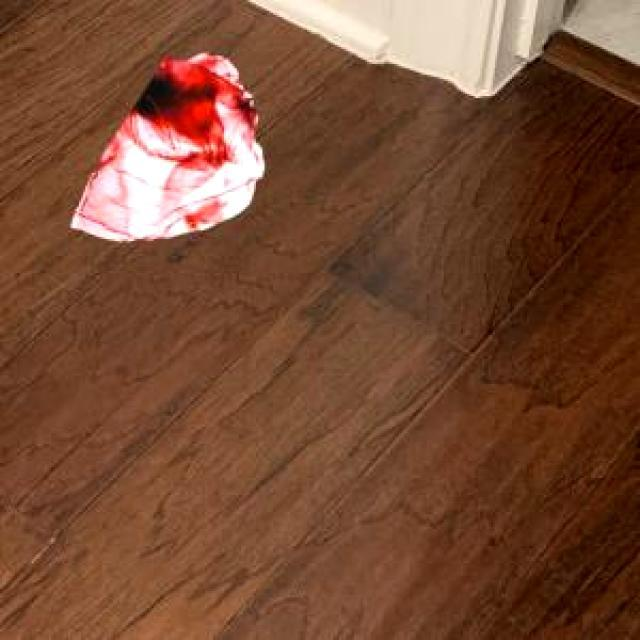Plastic_Bag: (70, 50, 260, 238)
